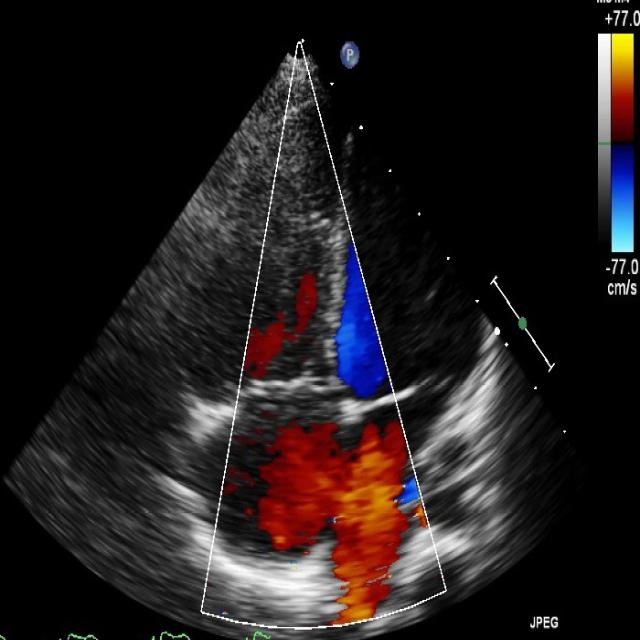ASDType2: (256, 415, 431, 626)
